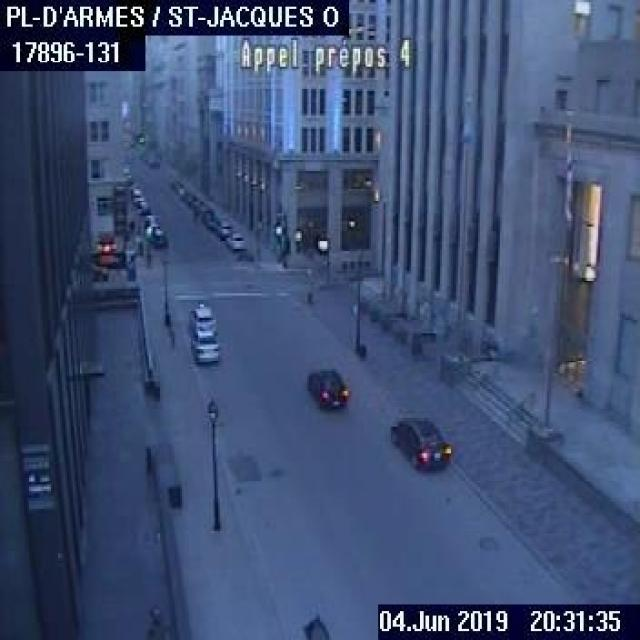vehicle: (389, 416, 452, 466), (306, 364, 349, 406), (187, 324, 220, 362), (188, 300, 216, 334), (226, 229, 244, 248), (216, 219, 230, 237), (144, 222, 159, 238), (150, 228, 165, 244), (144, 213, 159, 226), (137, 199, 149, 213), (147, 155, 159, 167), (130, 188, 142, 200)
